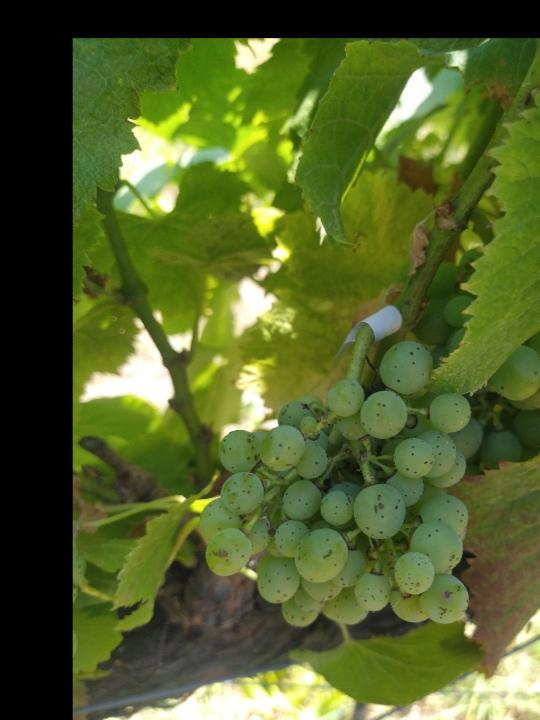grape: (198, 337, 540, 629)
